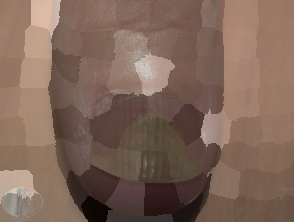Nail_psoriasis: (59, 59, 225, 207)
